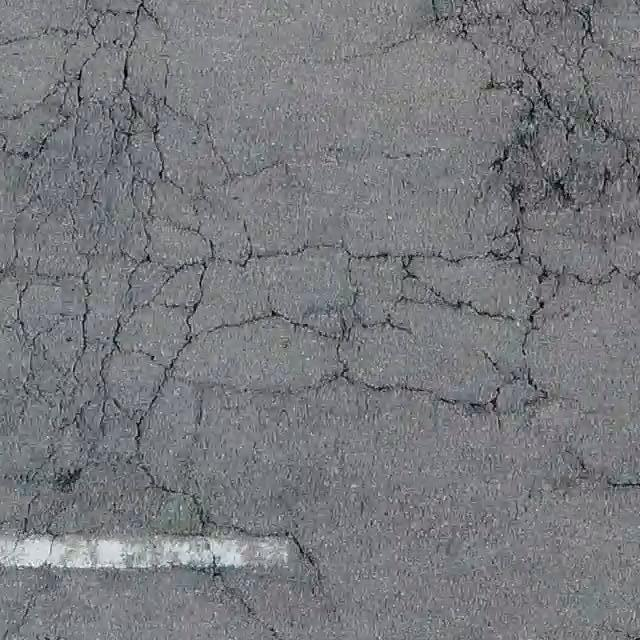GRIETA: (342, 34, 417, 60)
PIEL DE COCODRILO: (0, 0, 639, 639)
